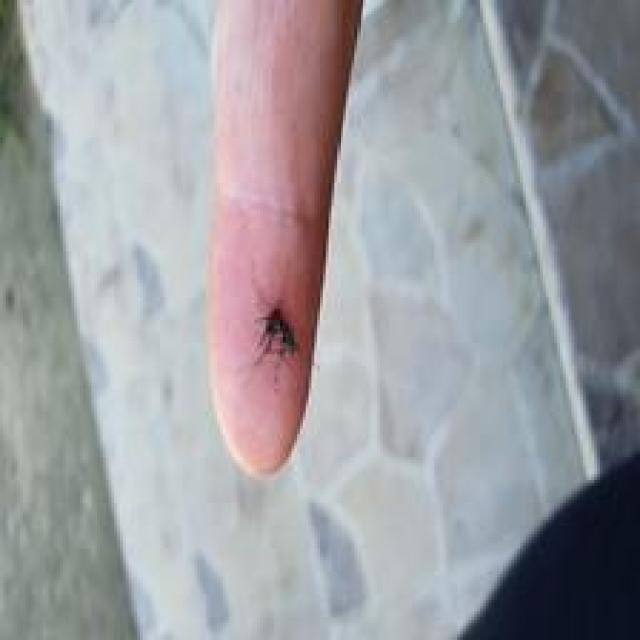Aedes albopictus: (253, 307, 301, 364)
